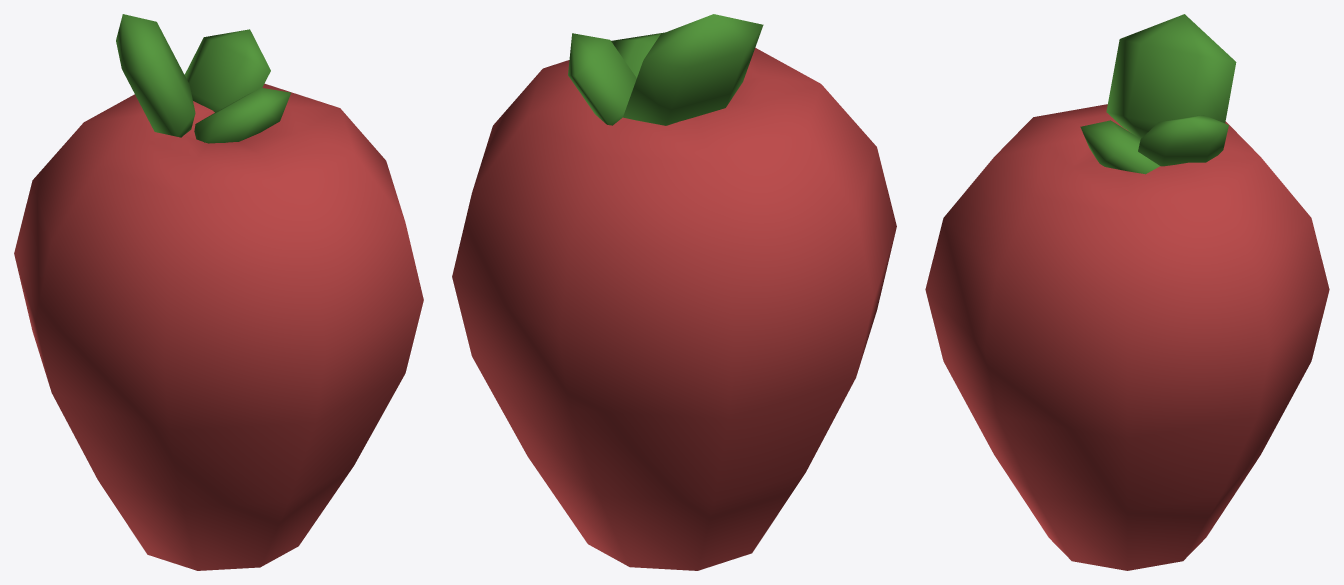
Rendered from Strawberry.fbx.
3 views of the same model, side by side, from view 1: azimuth 30°, elevation 25°; view 2: azimuth 150°, elevation 25°; view 3: azimuth 270°, elevation 25° (orthographic). The views are drawn at different scales.
Parts seen in each view (by area): view 1: Strawberry; view 2: Strawberry; view 3: Strawberry.
Boxes of the visible parts, x1,y1,x2,y2 form: Strawberry: (14,14,423,570); Strawberry: (452,14,896,570); Strawberry: (925,14,1329,570).
Size of the model in its own units: 64.11 by 90.79 by 64.11.
